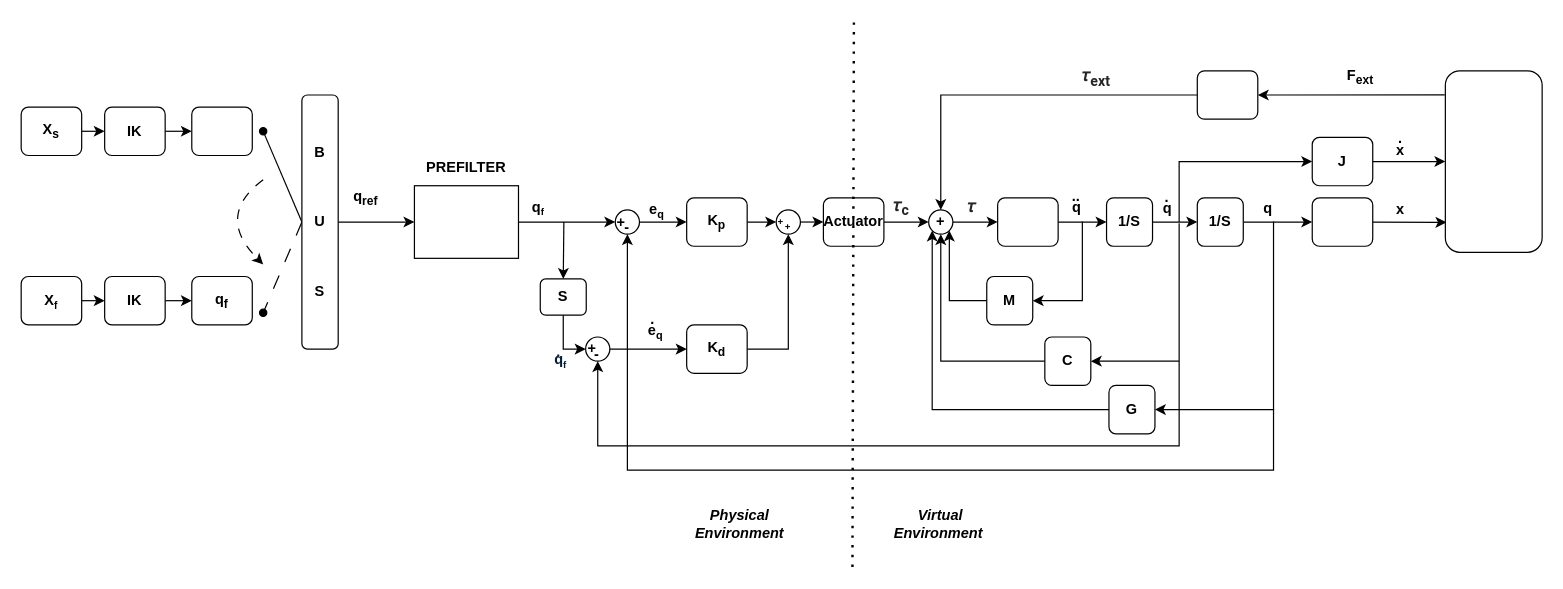
Image size: 1563x589. Some labels were removed from this diagram. The shapes that lost their labels are listed below. From the top down, each one's centre as x and y in pixels, then its label:
pixel 1227 94: J T
pixel 221 130: q s
pixel 1493 161: External Environment
pixel 465 221: ω n, ζ
pixel 1027 221: Robot
pixel 1342 221: FK
